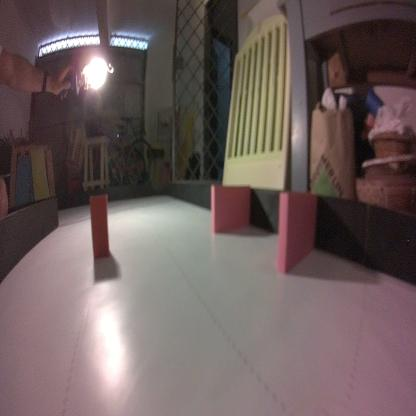magenta: (276, 186, 320, 278), (209, 182, 253, 236)
red: (89, 190, 111, 258)
